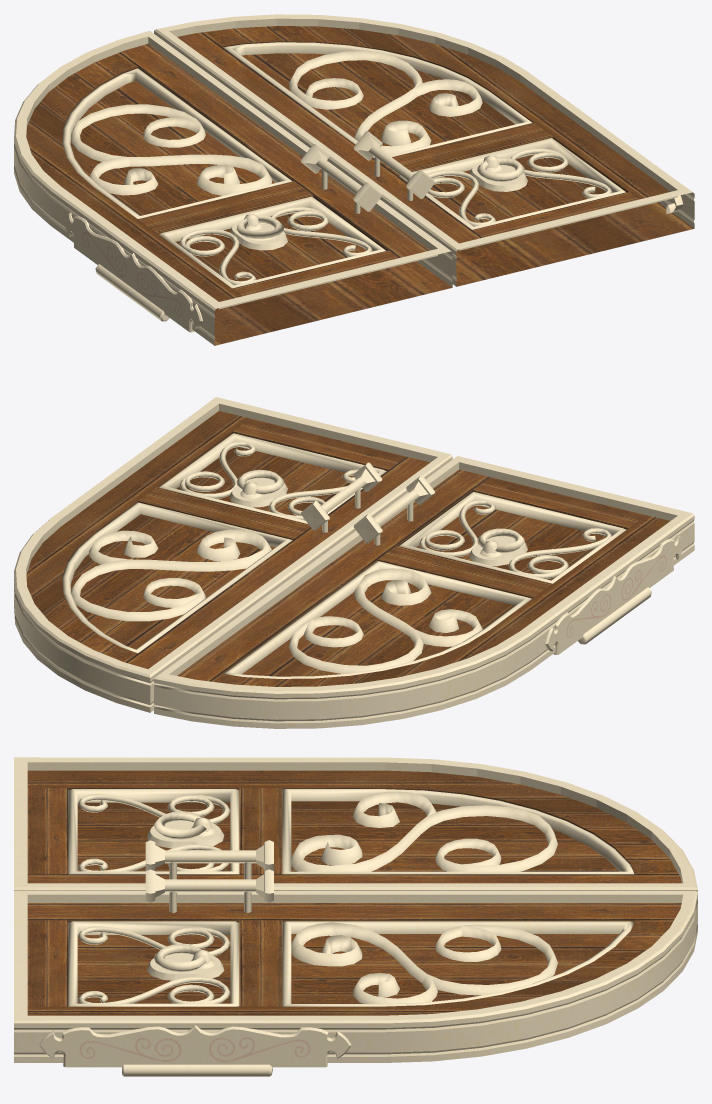
File: Gate.obj
3 renders of one model, top to bottom at view 1: azimuth 30°, elevation 25°; view 2: azimuth 150°, elevation 25°; view 3: azimuth 270°, elevation 25°, orthographic. The views are drawn at different scales.
Visible parts, largest first — view 1: group11__Wood00_AT, group10__Wood00_AT, group11__GoldDeco01, group10__GoldDeco01, group11__GoldDeco02, polySurface7169_1__GoldDeco01, polySurface7169__GoldDeco01; view 2: group11__GoldDeco01, group10__GoldDeco01, group11__Wood00_AT, group10__Wood00_AT, group11__GoldDeco02, polySurface7169__GoldDeco01, polySurface7169_1__GoldDeco01; view 3: group10__GoldDeco01, group10__Wood00_AT, group11__Wood00_AT, group11__GoldDeco01, group10__GoldDeco02, polySurface7169__GoldDeco01, polySurface7169_1__GoldDeco01.
Boxes of the visible parts, box(x1,y1,x2,y2) form: group11__Wood00_AT: box(26, 44, 452, 345); group10__Wood00_AT: box(177, 26, 693, 286); group11__GoldDeco01: box(14, 31, 452, 345); group10__GoldDeco01: box(154, 14, 694, 286); group11__GoldDeco02: box(63, 214, 199, 331); polySurface7169_1__GoldDeco01: box(477, 157, 524, 181); polySurface7169__GoldDeco01: box(236, 216, 284, 240); group11__GoldDeco01: box(154, 456, 694, 728); group10__GoldDeco01: box(14, 397, 452, 712); group11__Wood00_AT: box(177, 469, 669, 686); group10__Wood00_AT: box(26, 411, 430, 668); group11__GoldDeco02: box(548, 537, 684, 654); polySurface7169__GoldDeco01: box(477, 528, 524, 553); polySurface7169_1__GoldDeco01: box(236, 470, 284, 494); group10__GoldDeco01: box(14, 869, 697, 1076); group10__Wood00_AT: box(27, 903, 681, 1015); group11__Wood00_AT: box(27, 770, 681, 883); group11__GoldDeco01: box(14, 757, 697, 924); group10__GoldDeco02: box(41, 1028, 349, 1067); polySurface7169__GoldDeco01: box(154, 811, 206, 839); polySurface7169_1__GoldDeco01: box(154, 944, 206, 972).
Bounding box in the file's own units: 708 × 122 × 753.
Materials: 4 (3 with a texture image).
